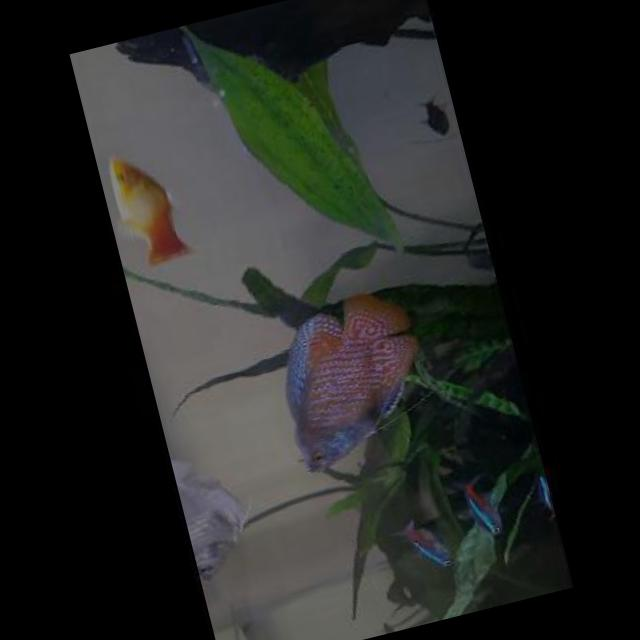Gourami: (261, 280, 442, 474)
